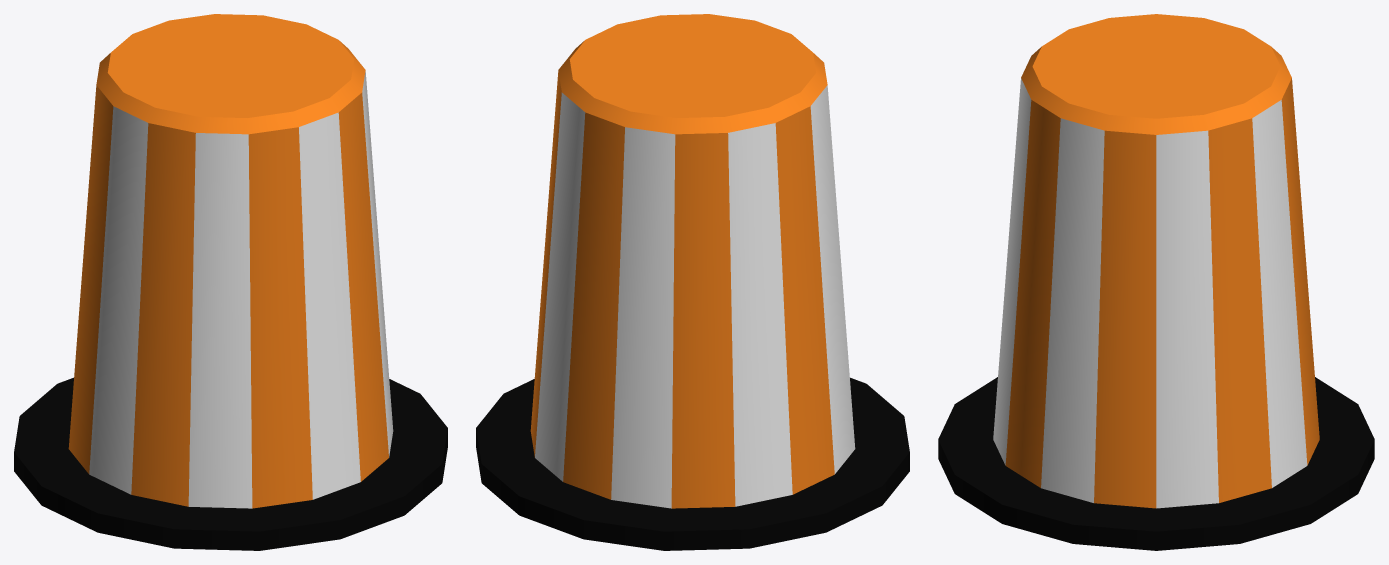
The model's file is Prop_RoadCone_03.fbx.
3 renders of one model, left to right at view 1: azimuth 30°, elevation 25°; view 2: azimuth 150°, elevation 25°; view 3: azimuth 270°, elevation 25°, orthographic.
Visible parts, largest first — view 1: Prop_RoadCone_03; view 2: Prop_RoadCone_03; view 3: Prop_RoadCone_03.
Part boxes in pixels (box(x1,y1,x2,y2)): Prop_RoadCone_03: box(14, 14, 447, 550); Prop_RoadCone_03: box(476, 14, 909, 550); Prop_RoadCone_03: box(938, 14, 1374, 550).
Size of the model in its own units: 85.98 by 85.23 by 85.98.
